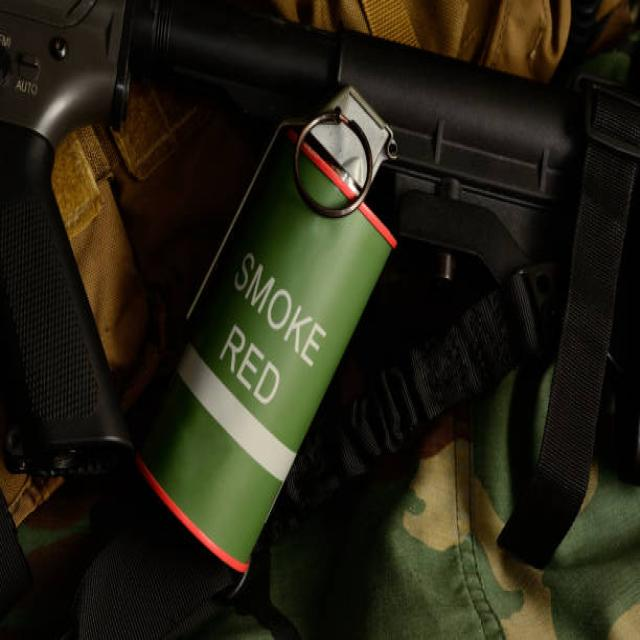grenade: (126, 75, 407, 599)
